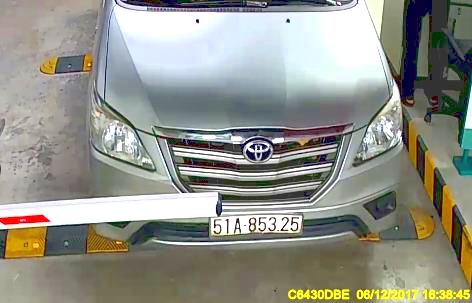plate: (209, 213, 306, 235)
